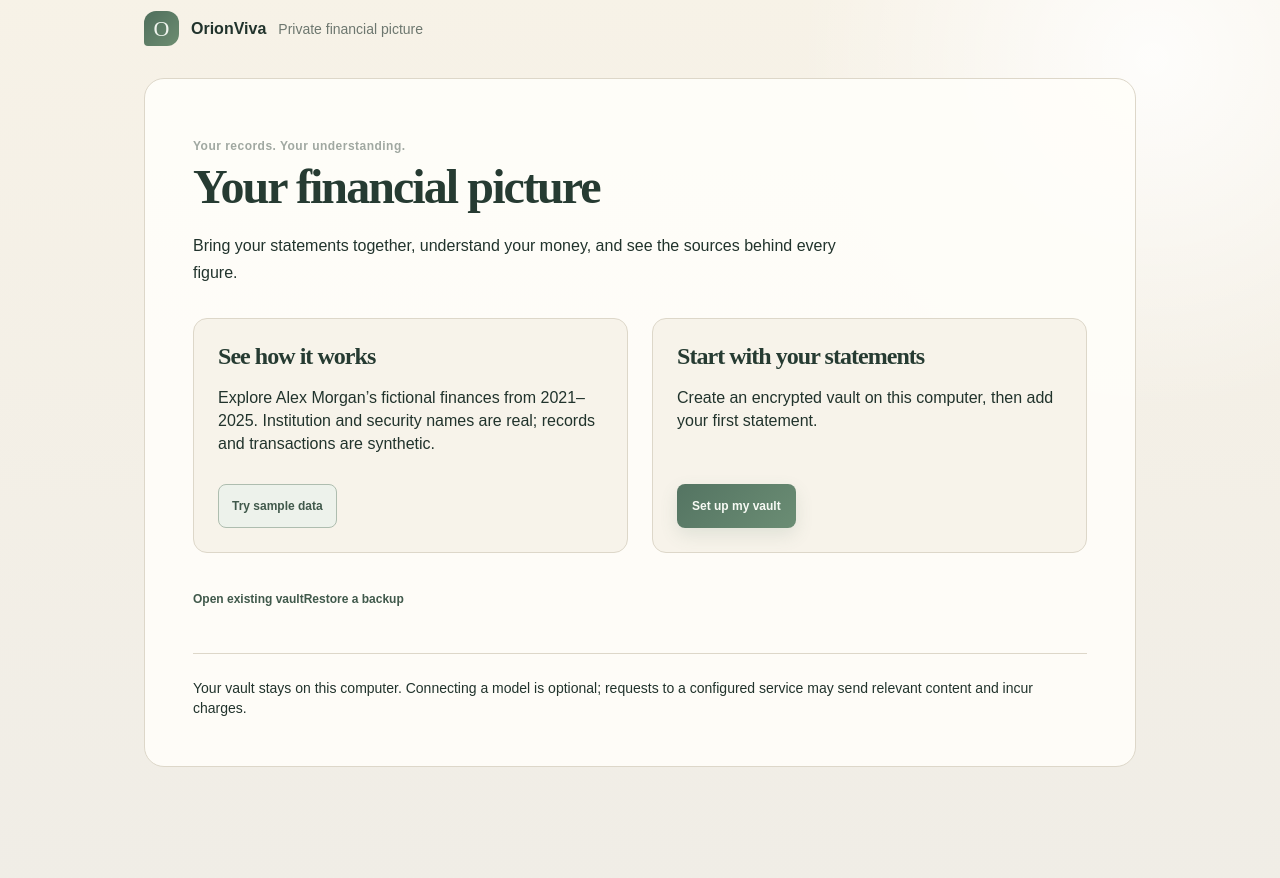
Test: documents › takes a person to the receipt when a file is dropped on another screen, and keeps it there afterwards
Click the button "Open existing vault" at (248, 598), box [193, 576, 304, 620]
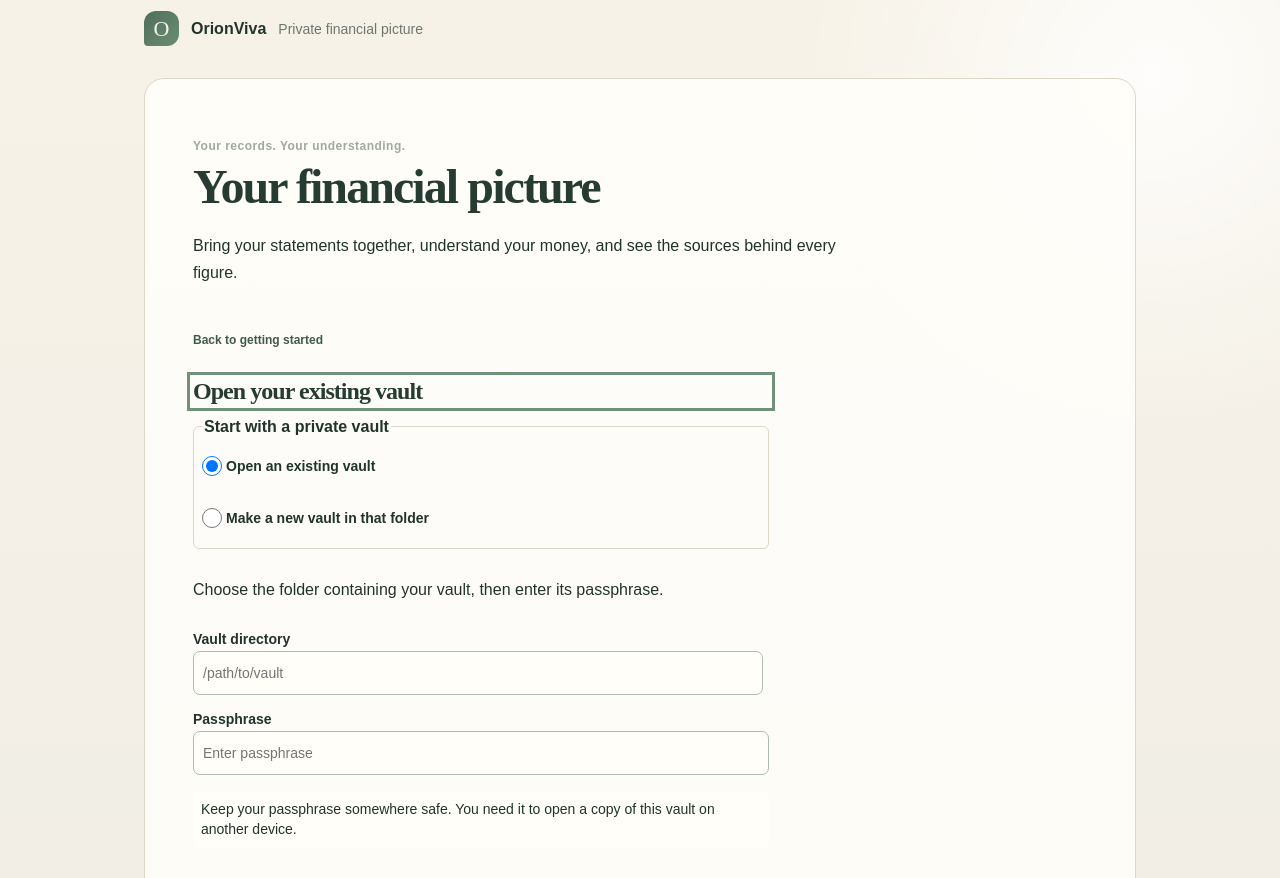
Type "/vault" into the field labelled "Vault directory" at (478, 673), box [193, 651, 763, 695]
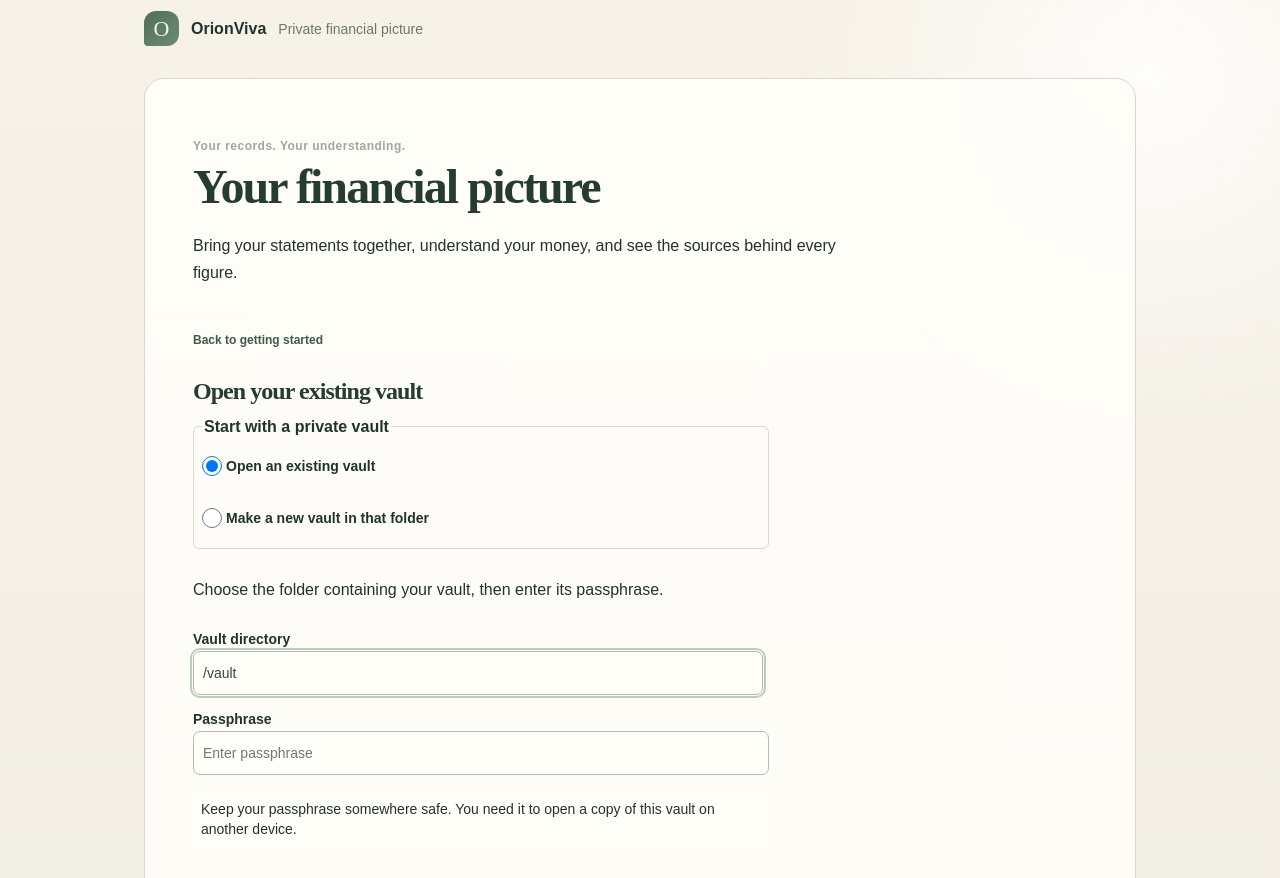
Type "secret" into the password field labelled "Passphrase" at (481, 753), box [193, 731, 769, 775]
(page scrolled)
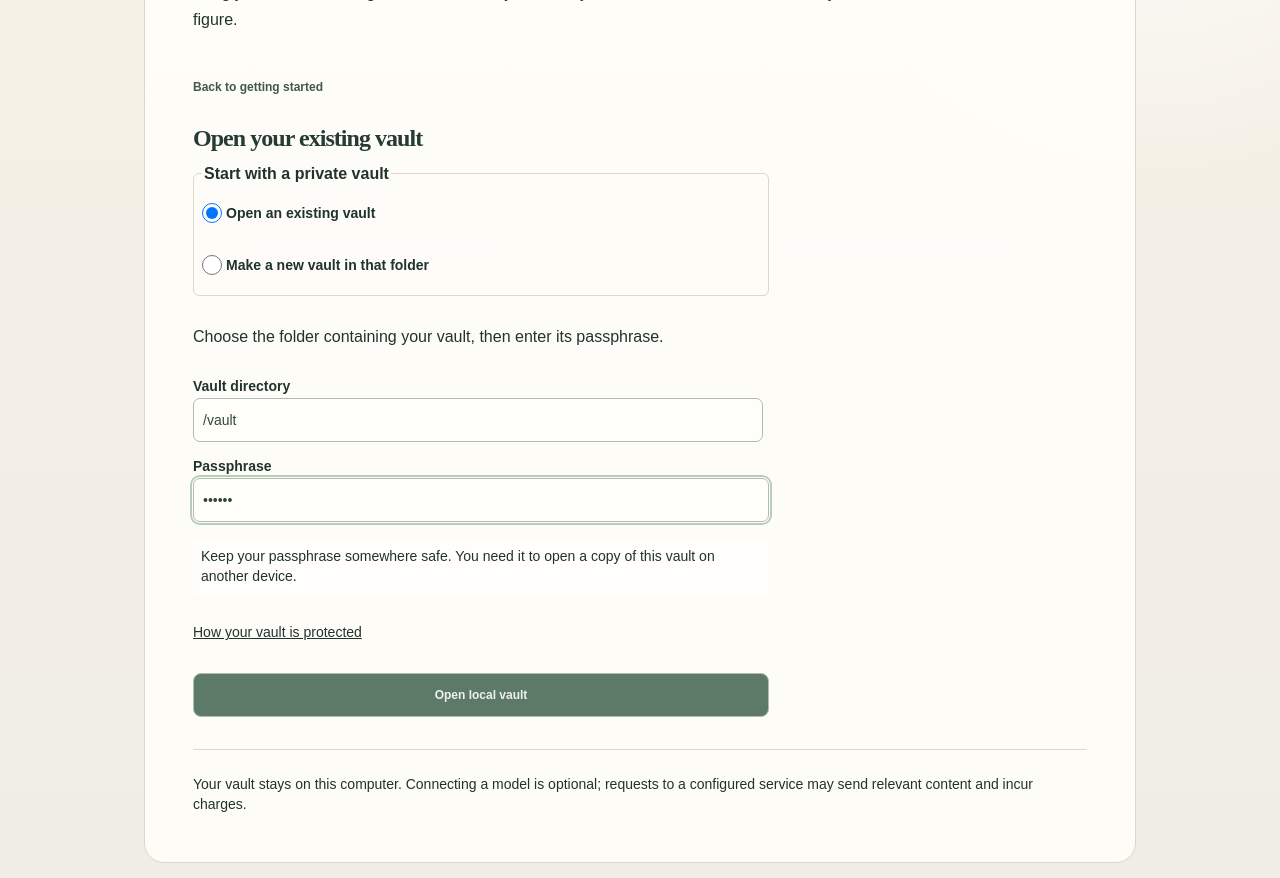
Click the button "Open local vault" at (481, 695), box [193, 673, 769, 717]
(page scrolled)
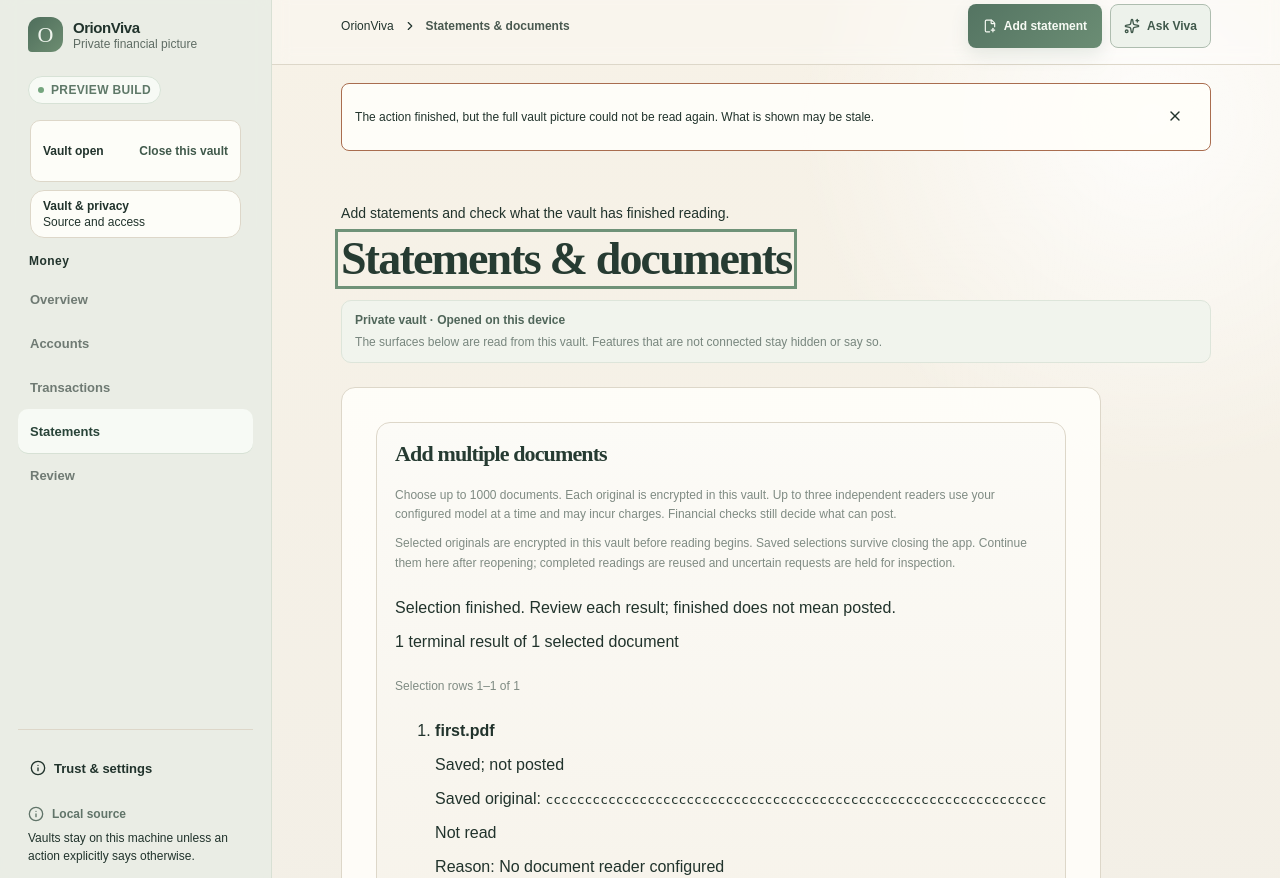
Result: the button "Overview" is shown
Result: the heading "Statements & documents" is shown at [341, 235, 791, 283]
Result: the text "Reason: No document reader configured" is shown once at [435, 858, 724, 875]
Click the button "Overview" at (136, 299), box [18, 277, 253, 321]
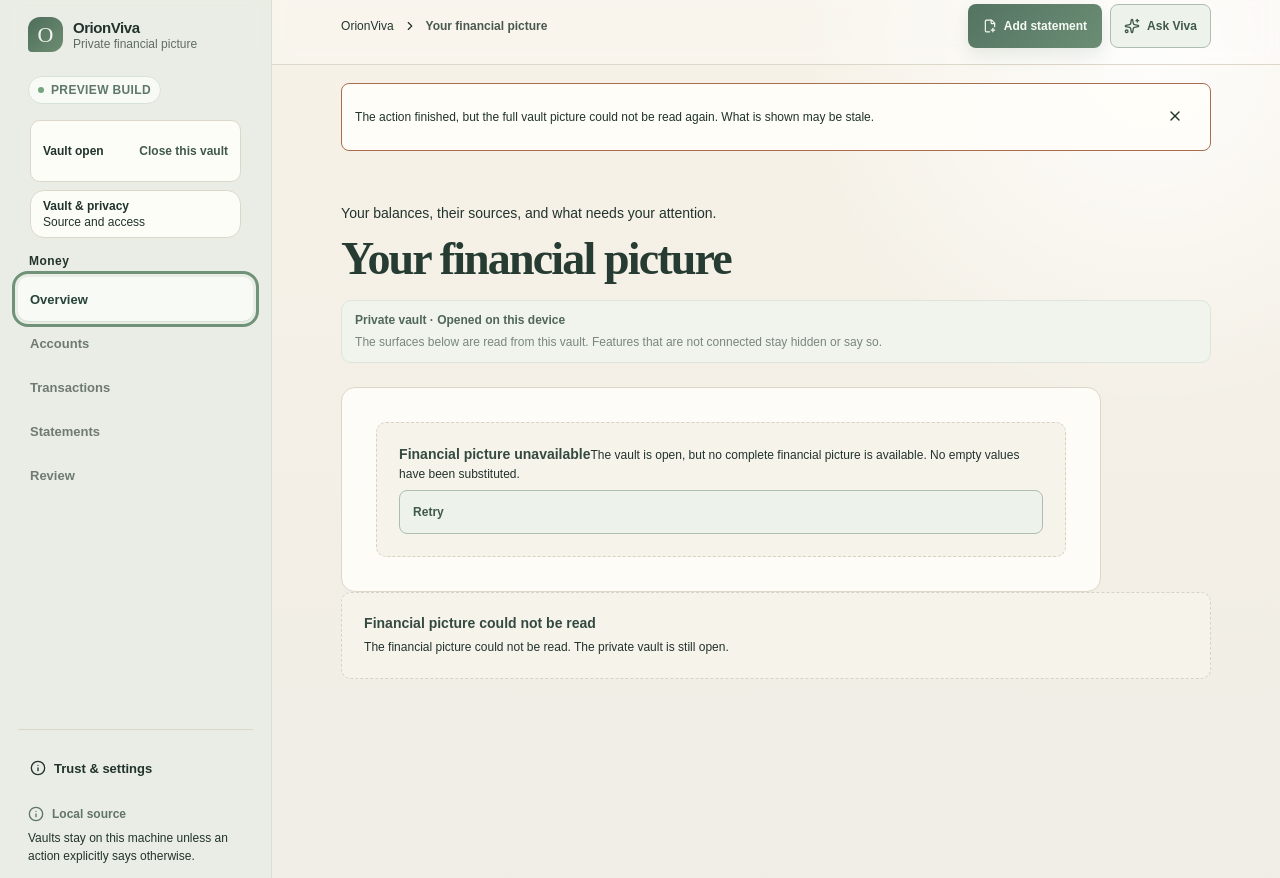
Click the button "Statements" at (136, 431), box [18, 409, 253, 453]
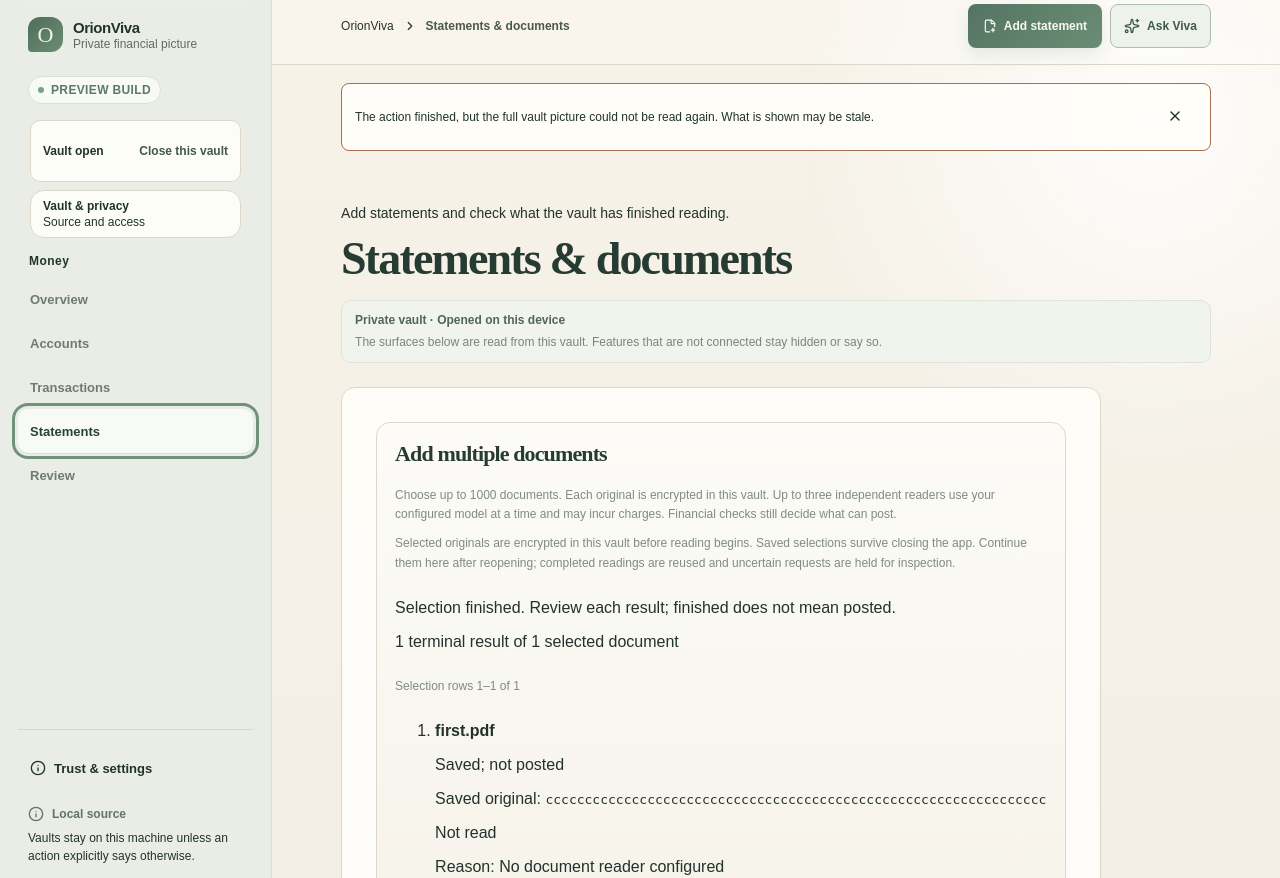
Result: the text "Reason: No document reader configured" is shown once at [435, 858, 724, 875]
